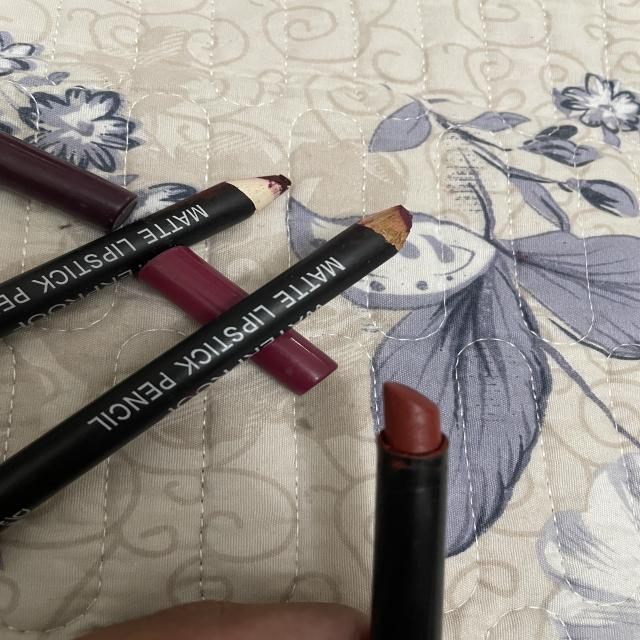lip liner: (0, 154, 436, 370)
lip stick: (354, 365, 462, 640)
